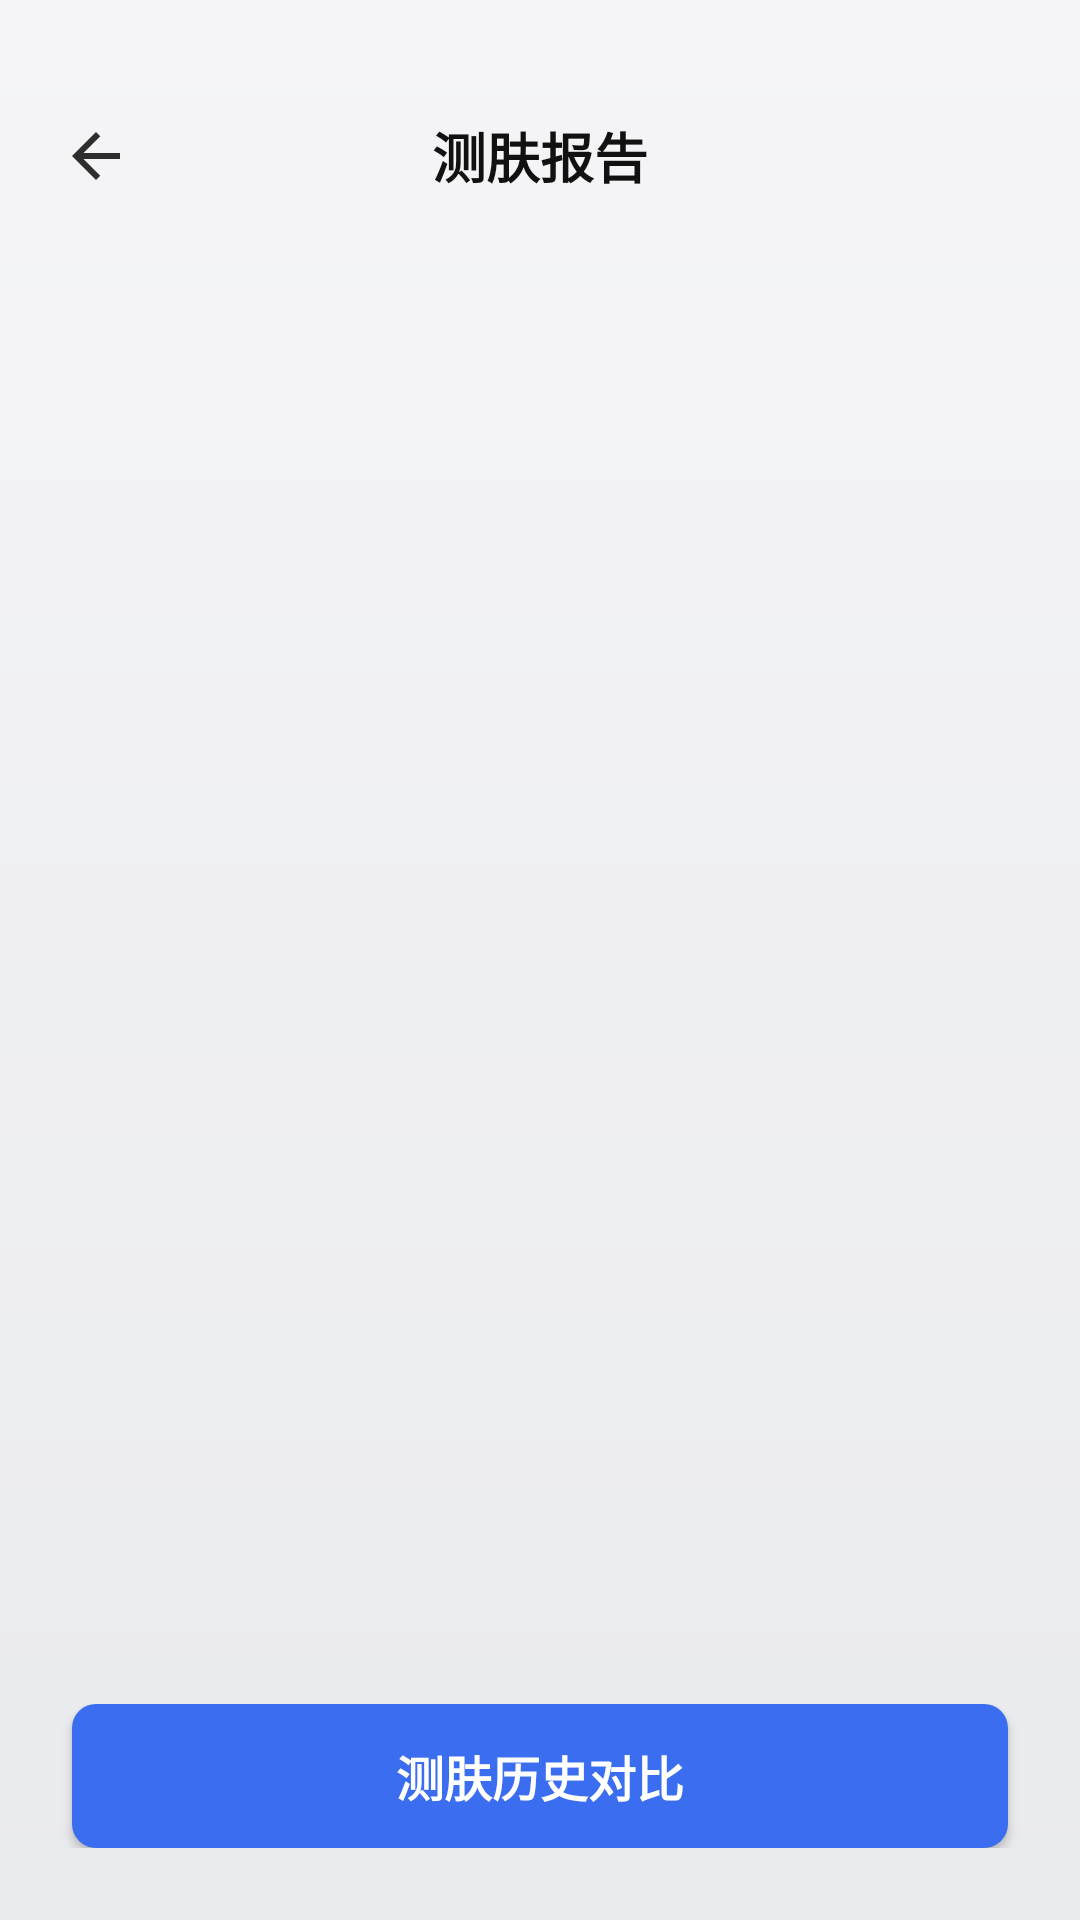

Named icons in this screenshot (1080 × 1920) and their centers, point (x, y):
back: point (96, 156)
